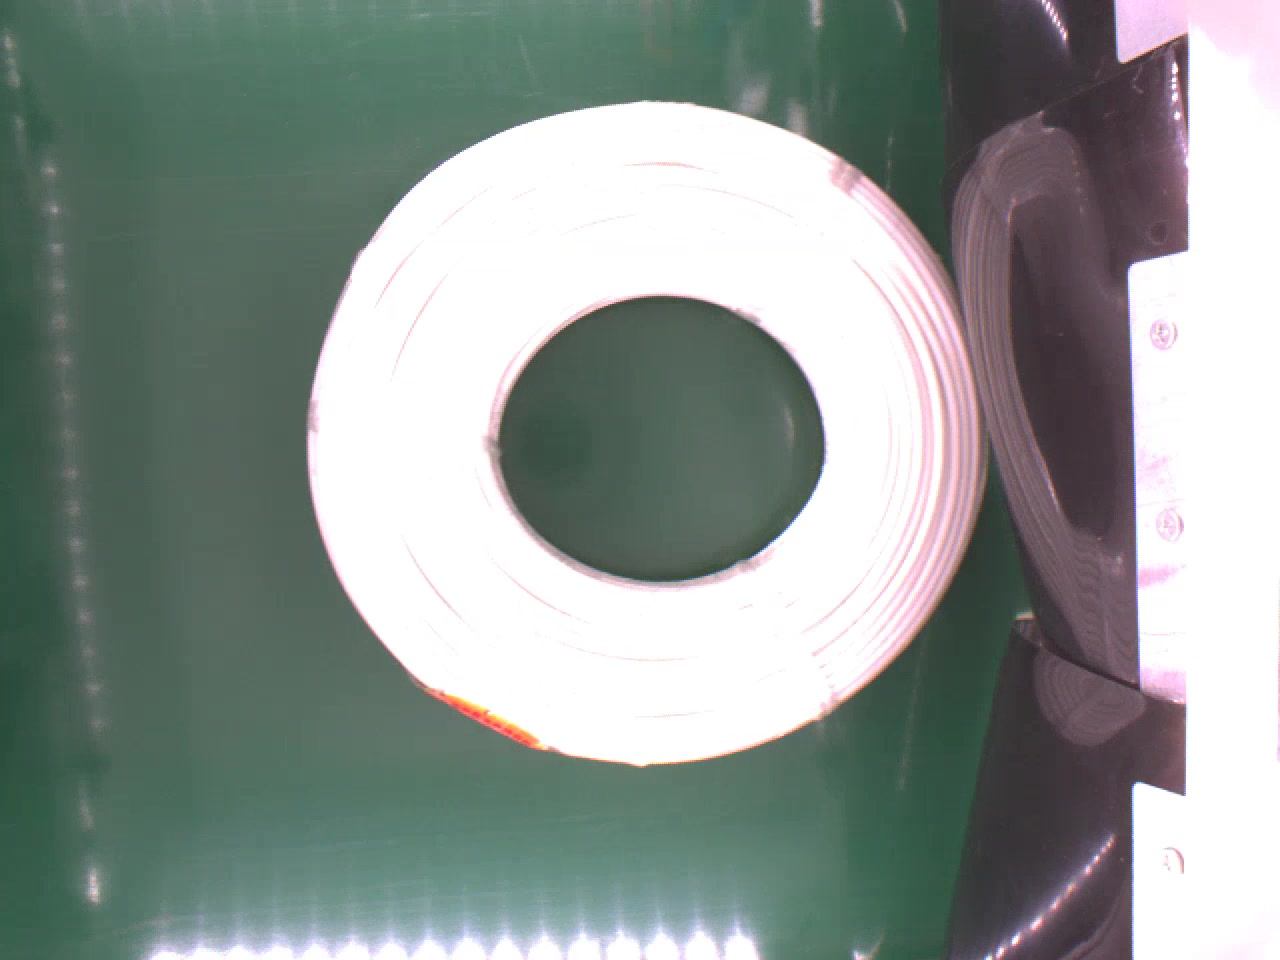white: (302, 97, 992, 774)
